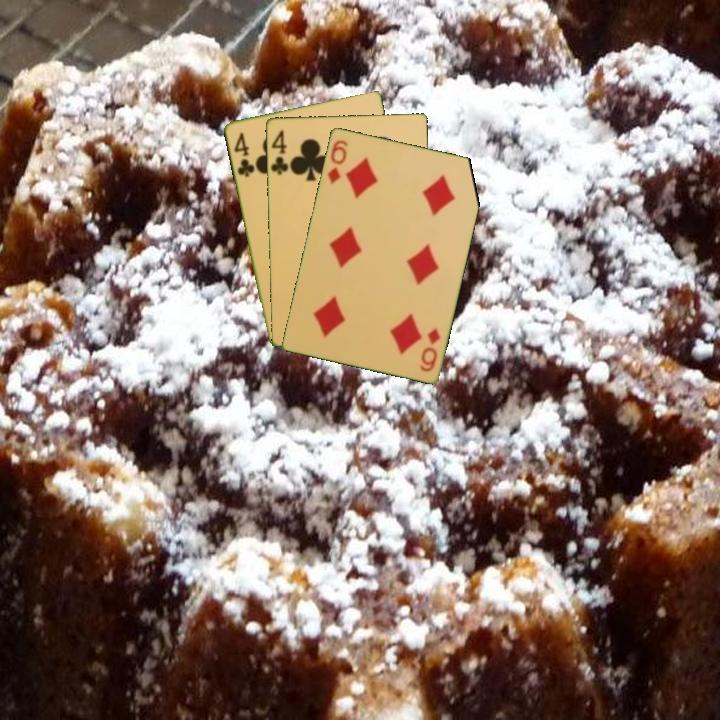4c: (230, 128, 257, 180), (267, 126, 291, 177)
6d: (324, 136, 351, 187), (417, 324, 443, 374)
